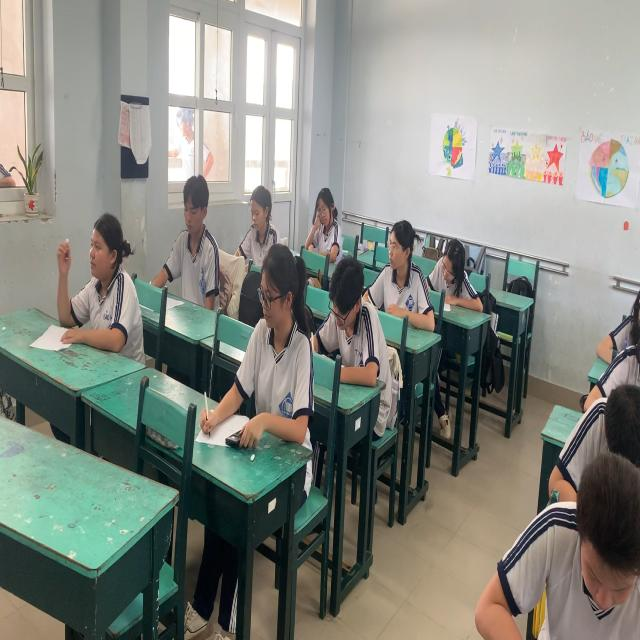not_cheating: (543, 454, 640, 640), (239, 238, 310, 446), (64, 210, 142, 372), (324, 250, 380, 391), (170, 170, 222, 307), (589, 376, 640, 472), (381, 214, 421, 335), (430, 225, 466, 319), (239, 177, 278, 262), (302, 180, 342, 260)
